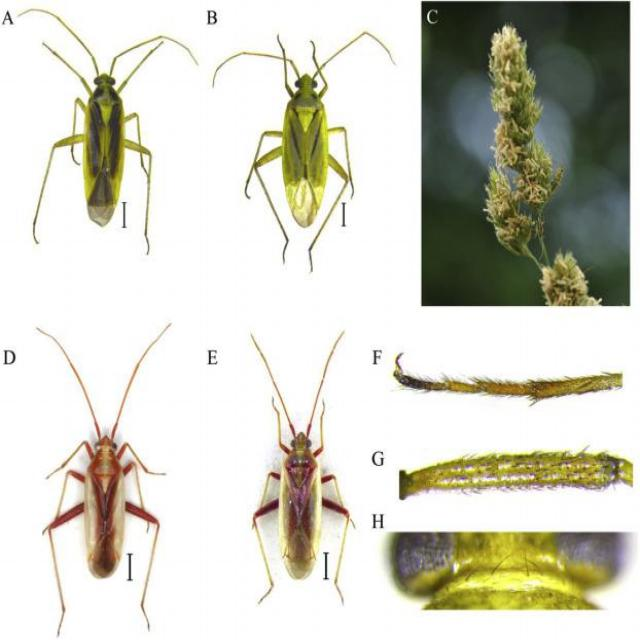Miridae-Adult-: (21, 309, 170, 637), (18, 5, 204, 262), (208, 28, 394, 279), (230, 315, 366, 624)
